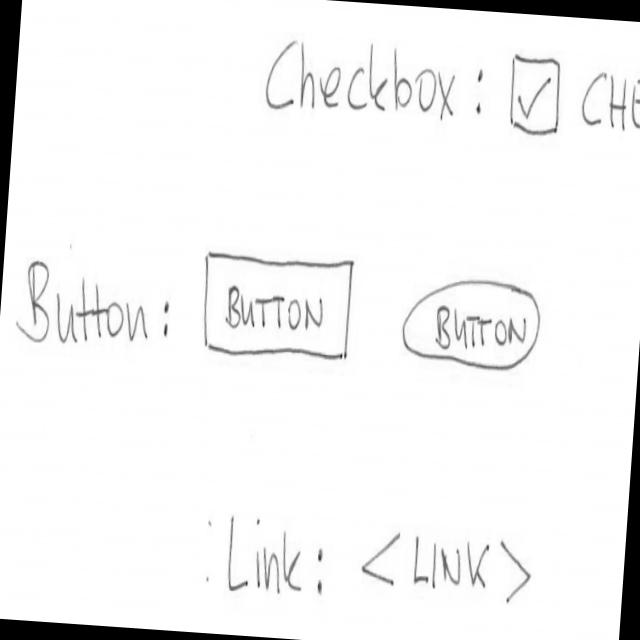button: (196, 245, 360, 372), (398, 266, 546, 381)
checkbox: (504, 47, 640, 150)
link: (357, 523, 537, 614)
